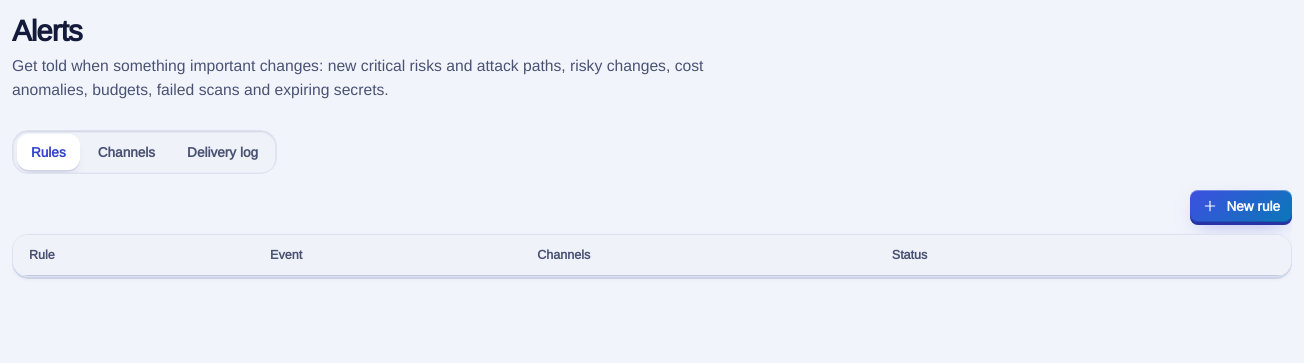
AlertsPage › shows channels and the delivery log on plans with webhooks
Click the tab "Channels": (126, 152) [84, 134, 169, 170]
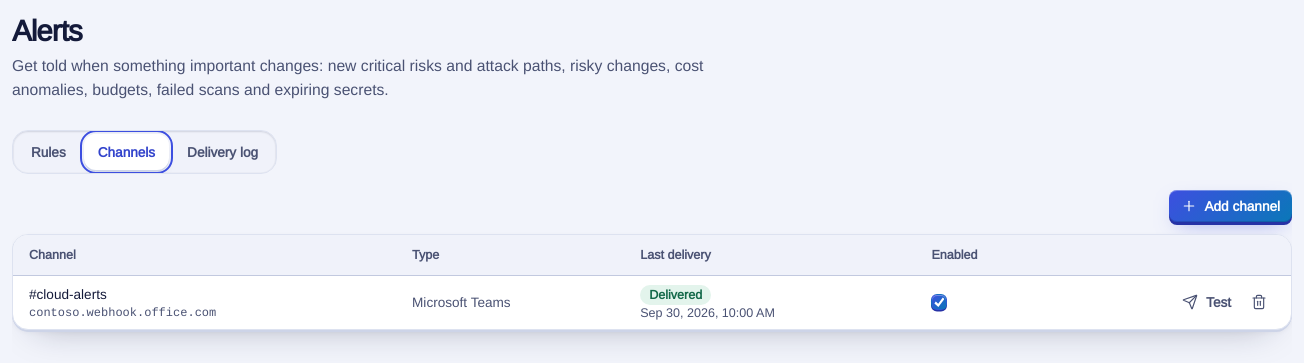
Expected: the text "#cloud-alerts" is shown, [29, 285, 107, 303]
Expected: the text "contoso.webhook.office.com" is shown, [29, 304, 216, 320]
Expected: the text "Delivered" is shown, [640, 284, 711, 304]
Click the tab "Delivery log": (223, 152) [173, 134, 272, 170]
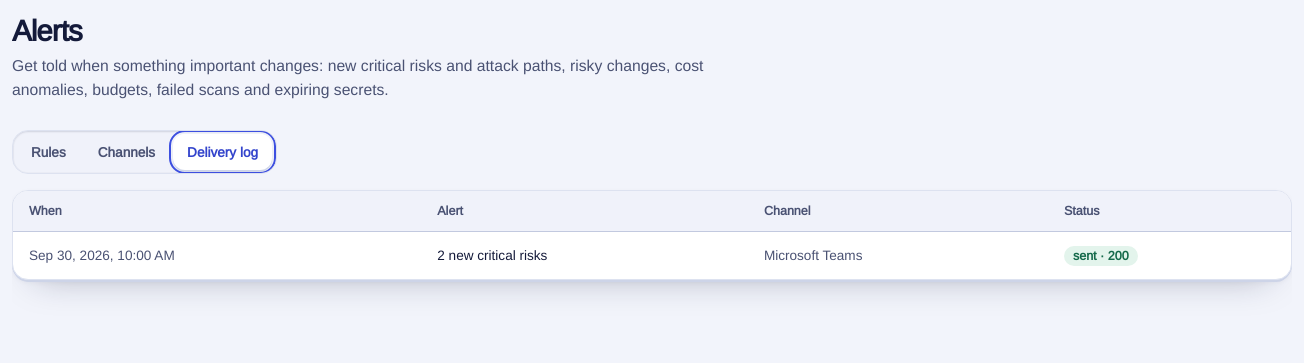
Expected: the text "2 new critical risks" is shown, [421, 231, 748, 279]
Expected: the text "sent · 200" is shown, [1064, 246, 1138, 266]
